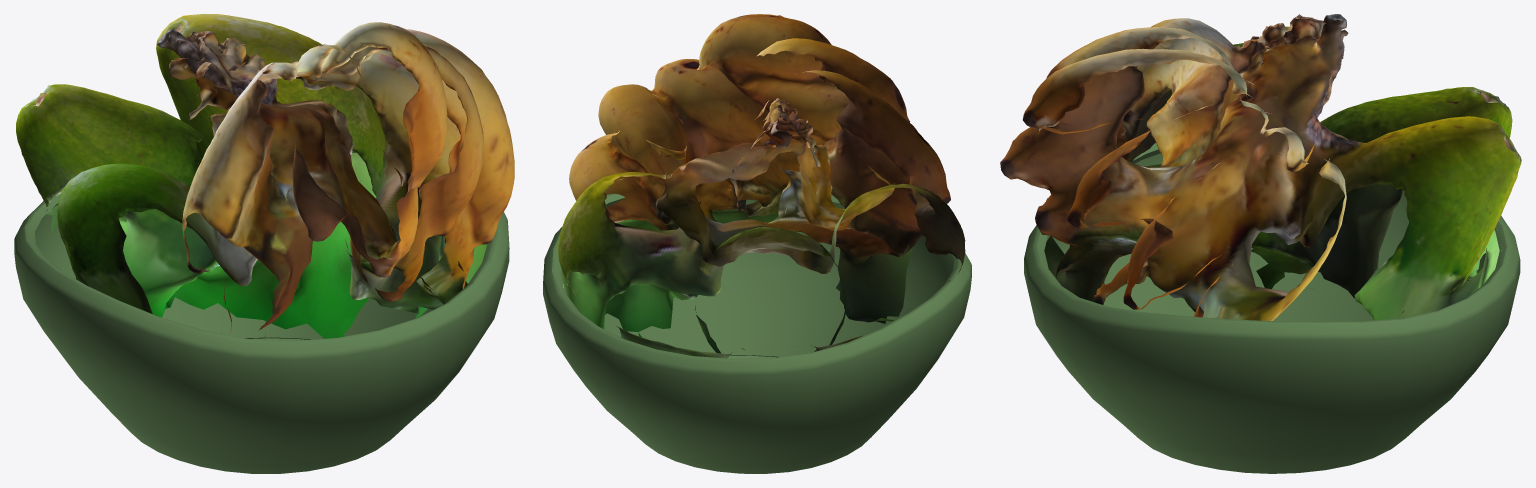
The model's file is Avocados.glb.
3 renders of one model, left to right at view 1: azimuth 30°, elevation 25°; view 2: azimuth 150°, elevation 25°; view 3: azimuth 270°, elevation 25°, orthographic. The views are drawn at different scales.
Visible parts, largest first — view 1: Mesh_0, Cylinder; view 2: Mesh_0, Cylinder; view 3: Mesh_0, Cylinder.
Part boxes in pixels (x1,y1,x2,y2): Mesh_0: [16, 14, 514, 339]; Cylinder: [14, 151, 509, 473]; Mesh_0: [558, 14, 965, 358]; Cylinder: [543, 193, 971, 473]; Mesh_0: [1000, 14, 1521, 320]; Cylinder: [1024, 143, 1520, 473].
Bounding box in the file's own units: 4.28 × 3.83 × 4.49.
2 materials, 1 textured.
